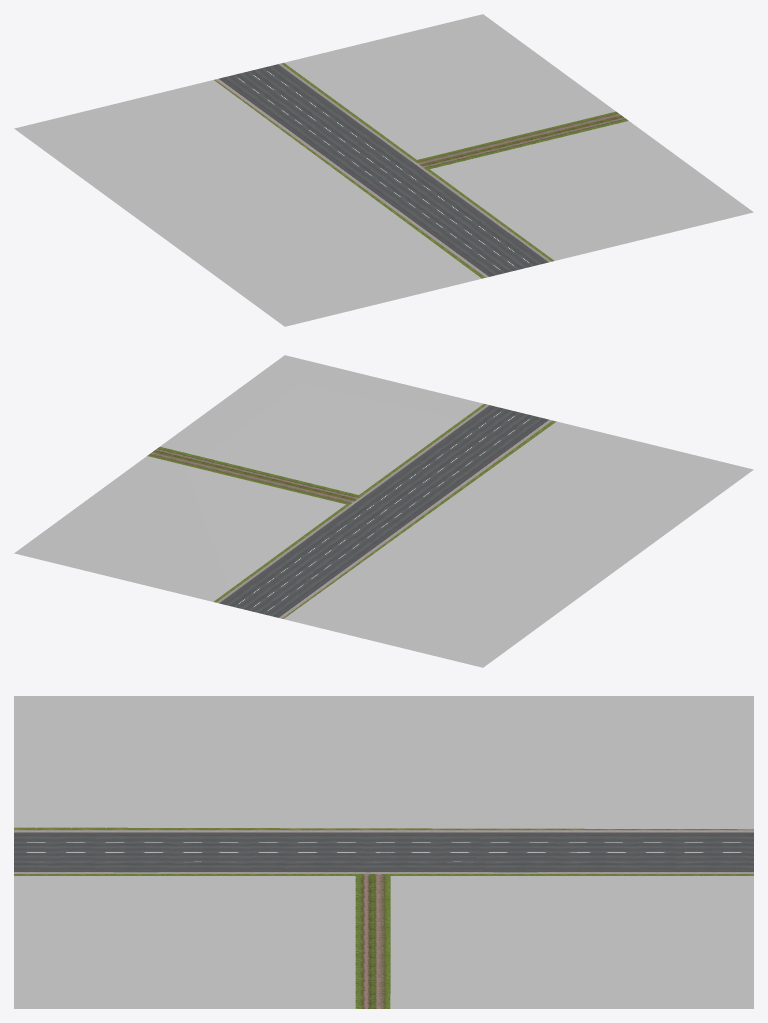
Rendered from road2r.FBX.
3 renders of one model, top to bottom at view 1: azimuth 30°, elevation 25°; view 2: azimuth 150°, elevation 25°; view 3: azimuth 270°, elevation 25°, orthographic. The views are drawn at different scales.
Parts seen in each view (by area): view 1: road; view 2: road; view 3: road.
Part boxes in pixels (x1=…): road: x1=14, y1=14, x2=753, y2=326; road: x1=14, y1=355, x2=753, y2=667; road: x1=14, y1=696, x2=753, y2=1008.
Size of the model in its own units: 12000 by 3.61 by 12000.
